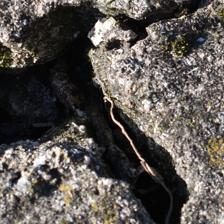Crack: (57, 0, 207, 133), (20, 0, 147, 79), (36, 110, 196, 164)
